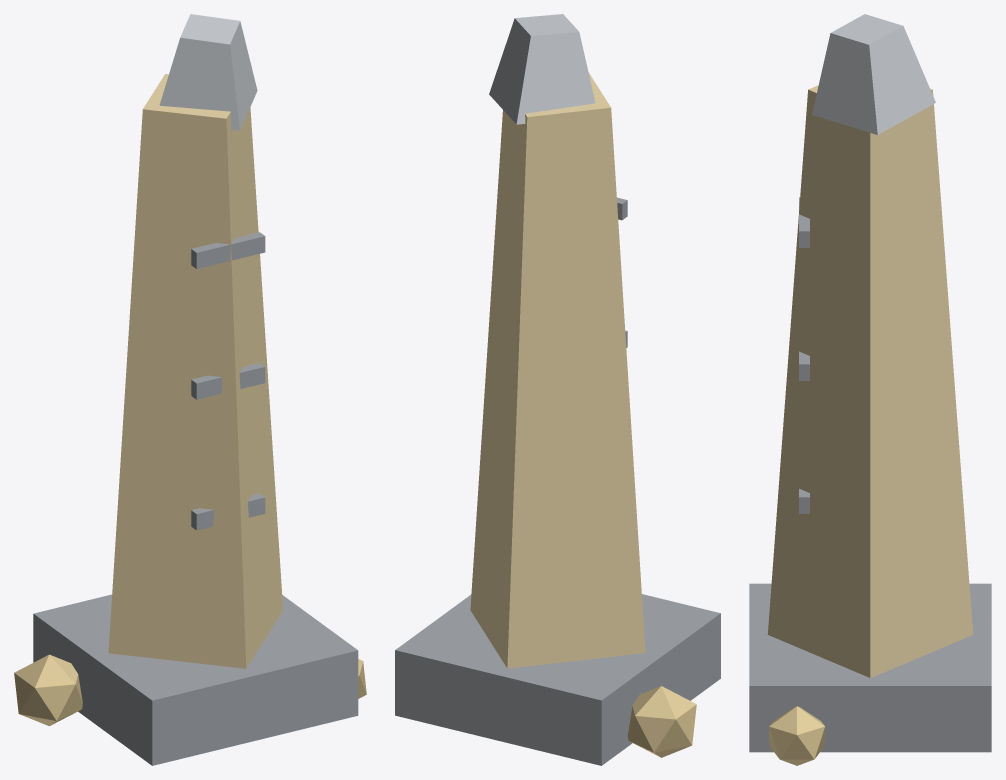
The model's file is broken_obelisk.glb.
The picture shows the model from 3 angles, left to right: view 1: azimuth 30°, elevation 25°; view 2: azimuth 150°, elevation 25°; view 3: azimuth 270°, elevation 25°; orthographic projection.
Visible parts, largest first — view 1: shaft.001, plinth.001, break.001, rubble_0.003, glyph_2, glyph_1, glyph_0; view 2: shaft.001, plinth.001, break.001, rubble_0.003; view 3: shaft.001, plinth.001, break.001, rubble_1.003.
Part boxes in pixels (bbox=[...]): shaft.001: bbox=[108, 74, 283, 668]; plinth.001: bbox=[33, 594, 358, 765]; break.001: bbox=[159, 14, 257, 130]; rubble_0.003: bbox=[14, 654, 82, 726]; glyph_2: bbox=[191, 232, 265, 268]; glyph_1: bbox=[191, 363, 265, 399]; glyph_0: bbox=[191, 493, 265, 530]; shaft.001: bbox=[470, 72, 645, 668]; plinth.001: bbox=[395, 594, 720, 765]; break.001: bbox=[489, 14, 595, 124]; rubble_0.003: bbox=[628, 686, 696, 757]; shaft.001: bbox=[767, 85, 973, 677]; plinth.001: bbox=[749, 583, 991, 752]; break.001: bbox=[812, 14, 935, 134]; rubble_1.003: bbox=[769, 706, 825, 765].
Bounding box in the file's own units: 0.9189 × 2.09 × 0.66.
